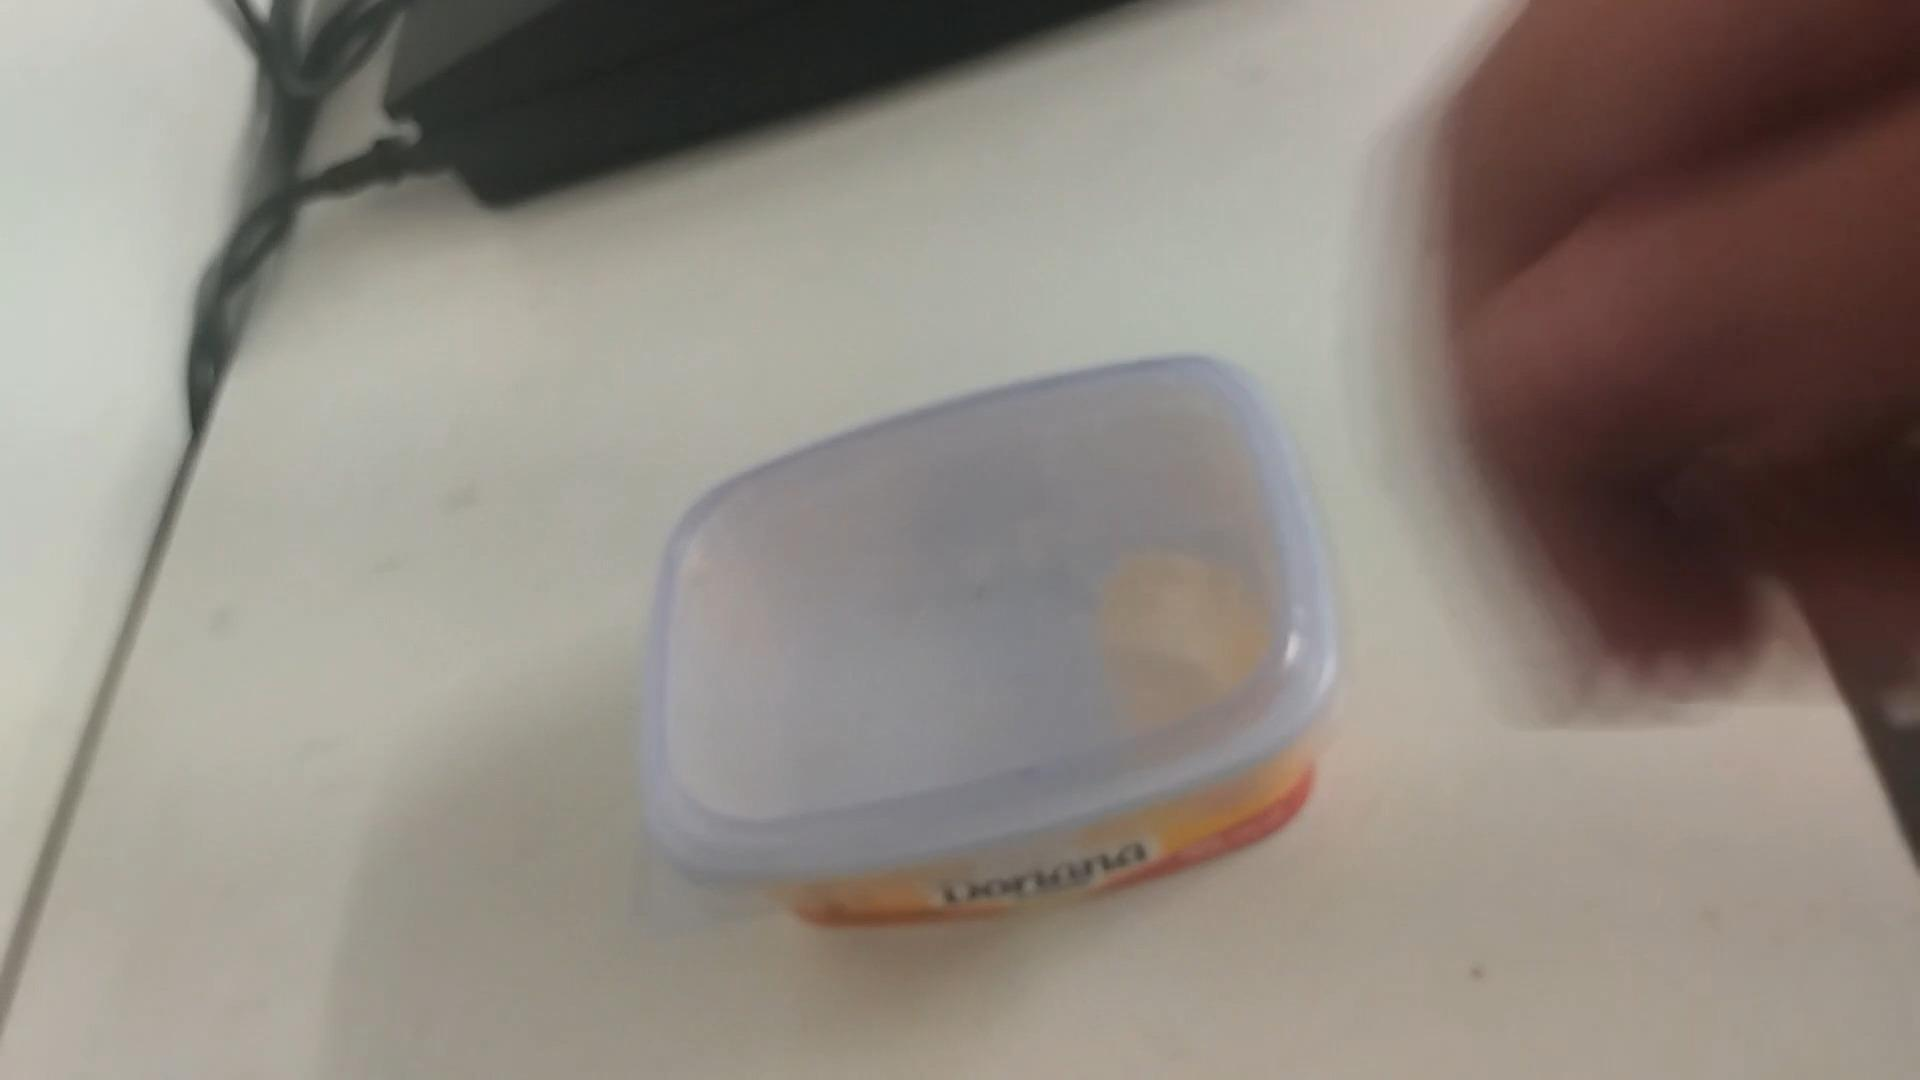butter: (641, 352, 1348, 932)
